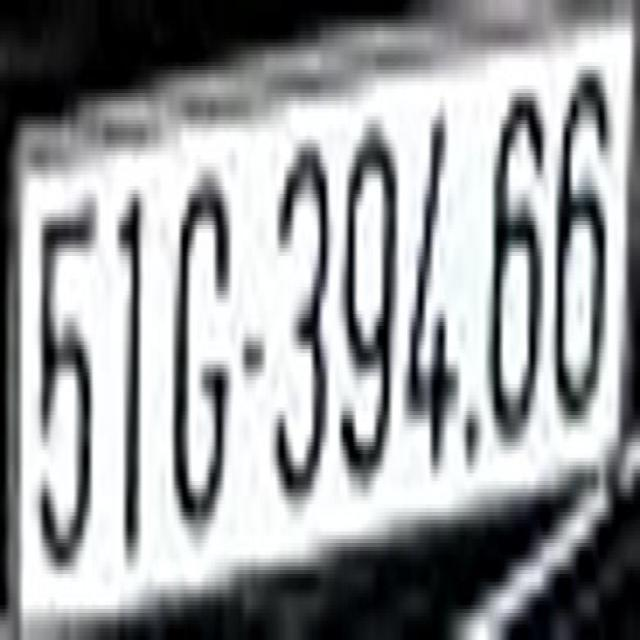1: (116, 174, 144, 550)
3: (272, 124, 330, 512)
4: (404, 112, 458, 474)
5: (40, 194, 94, 570)
6: (487, 82, 544, 466), (554, 54, 610, 414)
9: (340, 116, 398, 481)
G: (174, 143, 232, 554)
